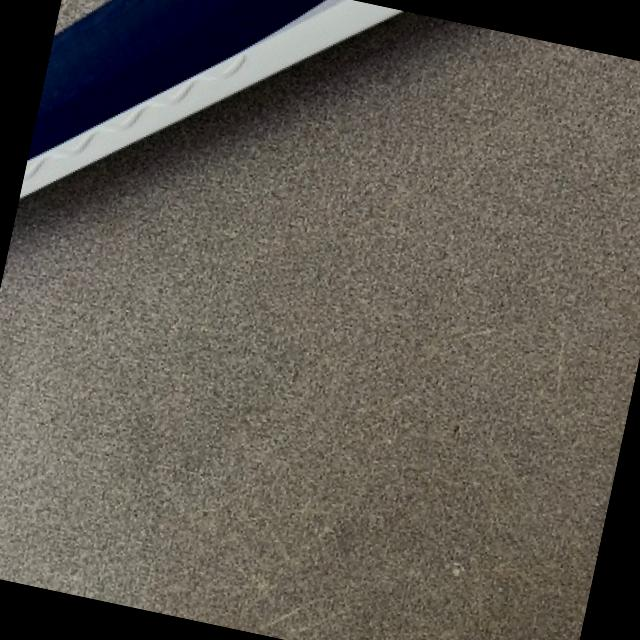healthy: (0, 11, 640, 640)
